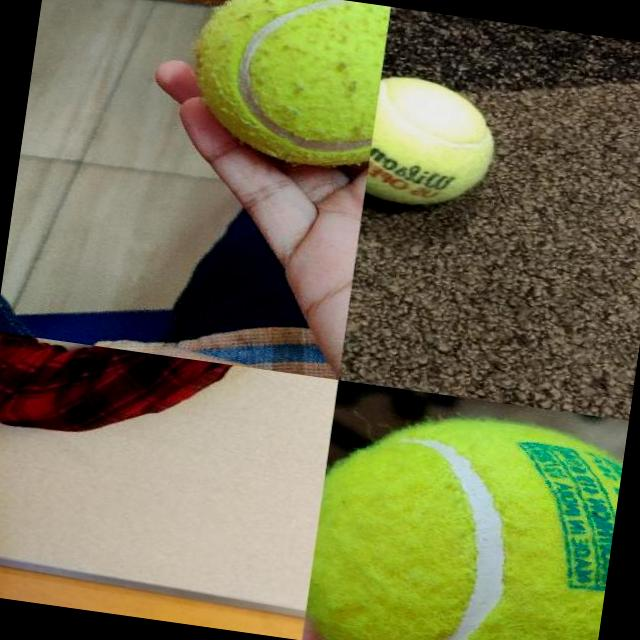Tennis Ball: (303, 400, 626, 640), (180, 0, 391, 173), (366, 72, 506, 220)
